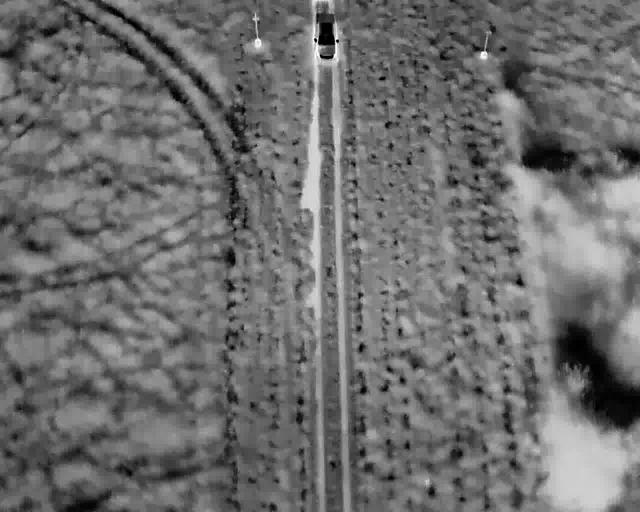car: (312, 10, 341, 63)
